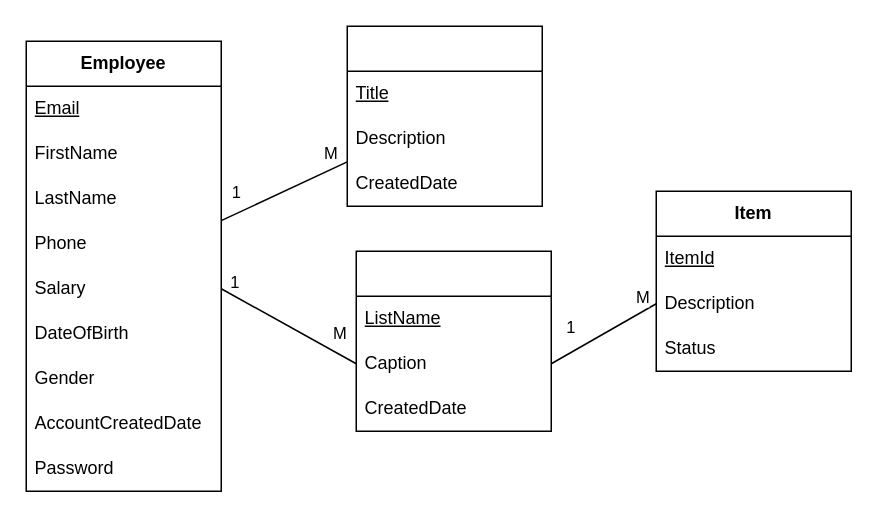
Image size: 878x518. Some labels were removed from this diagram. Each missing label, with the box of its shape:
Notes: (346, 25, 542, 206)
TaskList: (355, 250, 551, 431)
